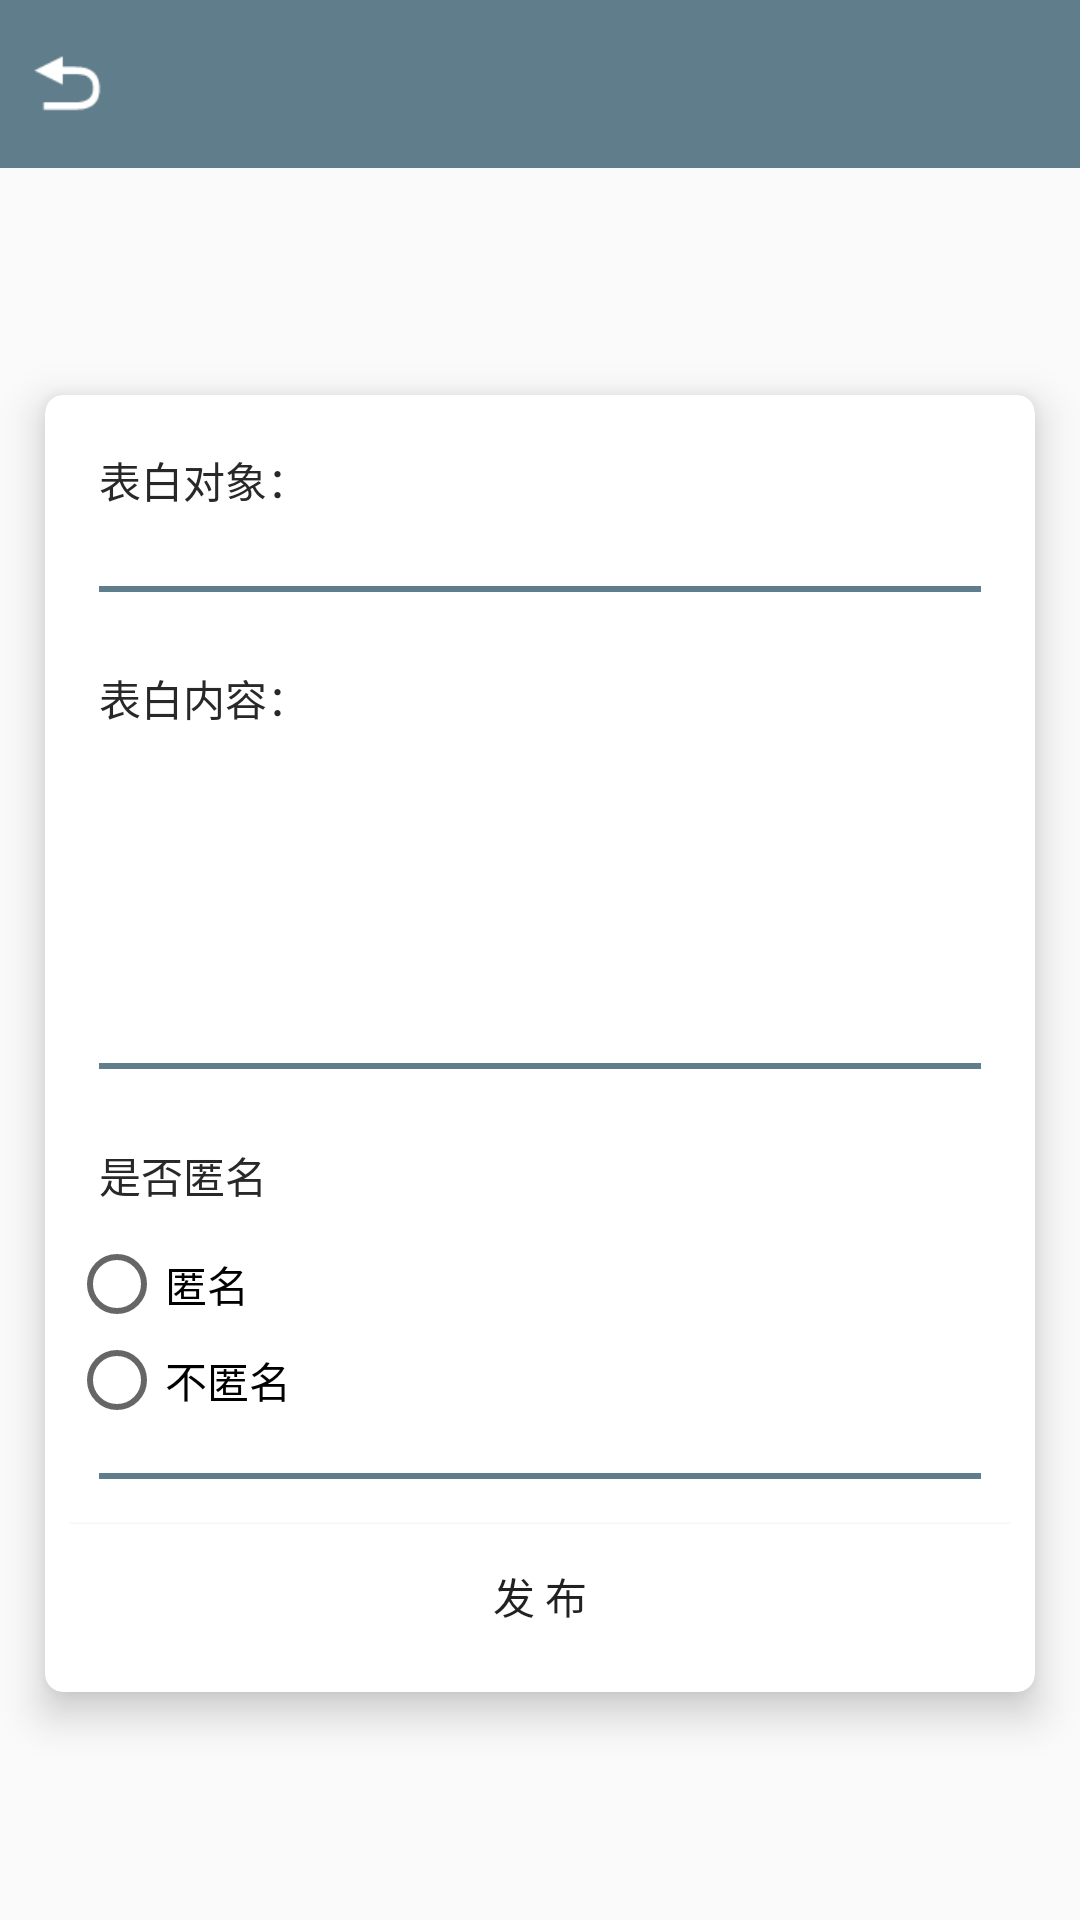

Screen size 1080 x 1920. Icon name, then its box in pixels as (x1, y1, x2, y2):
back: (34, 56, 101, 111)
